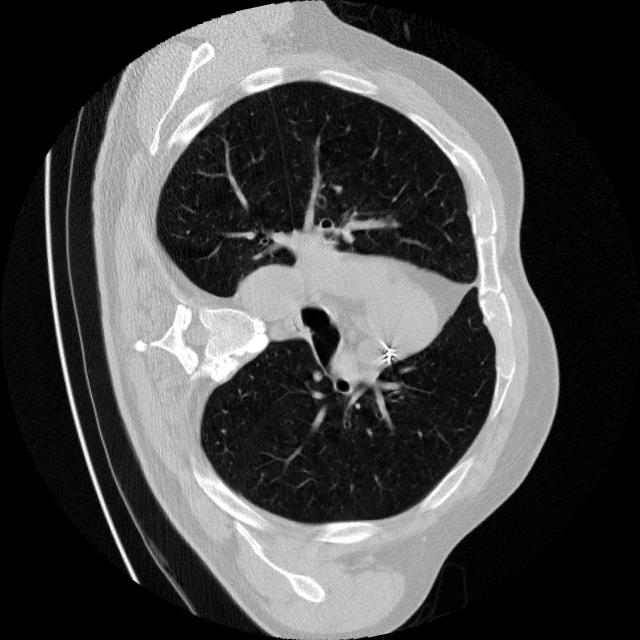nodule: (300, 361, 334, 394)
